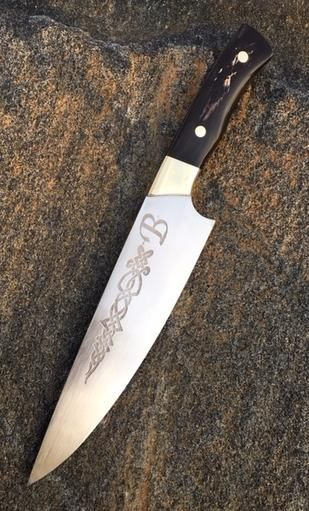knife: (26, 20, 279, 491)
